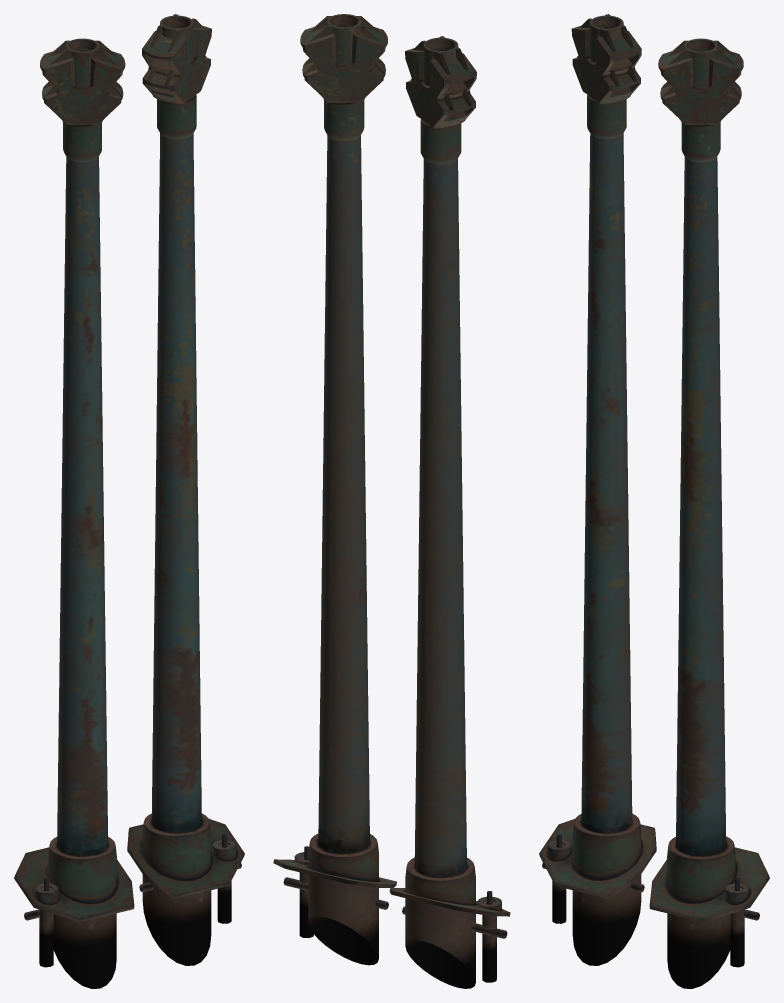
Rendered from Gun_04.glb.
3 views of the same model, side by side, from view 1: azimuth 30°, elevation 25°; view 2: azimuth 150°, elevation 25°; view 3: azimuth 330°, elevation 25° (orthographic). The views are drawn at different scales.
Visible parts, largest first — view 1: set_0_group_0; view 2: set_0_group_0; view 3: set_0_group_0.
Boxes of the visible parts, box(x1,y1,x2,y2) form: set_0_group_0: box(14, 14, 244, 988); set_0_group_0: box(273, 14, 510, 988); set_0_group_0: box(539, 14, 769, 988).
Bounding box in the file's own units: 1.02 × 4.25 × 0.3884.
Materials: 1 (1 with a texture image).
